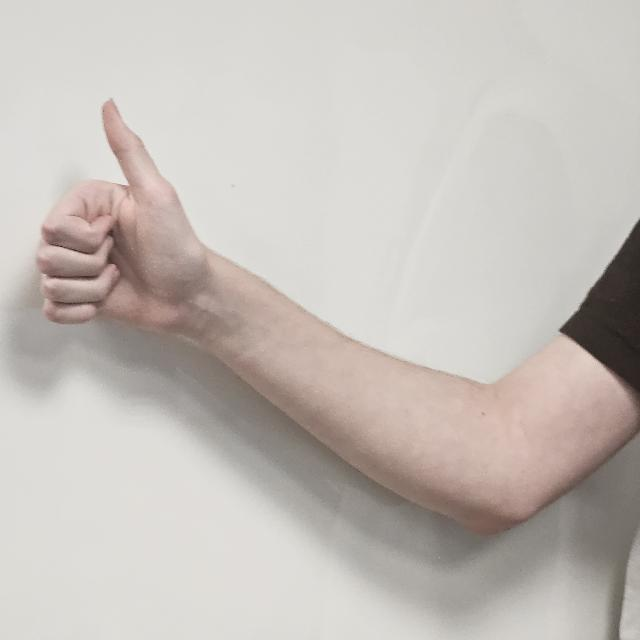Start: (34, 94, 218, 376)
